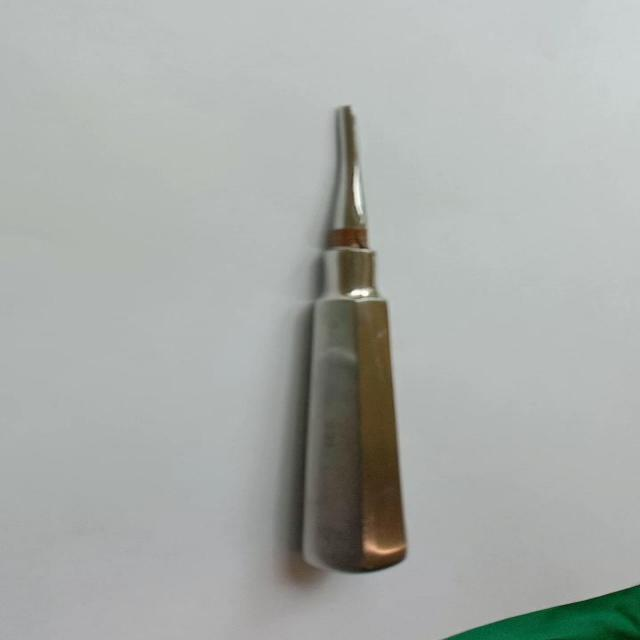Coupland1: (287, 101, 415, 576)
